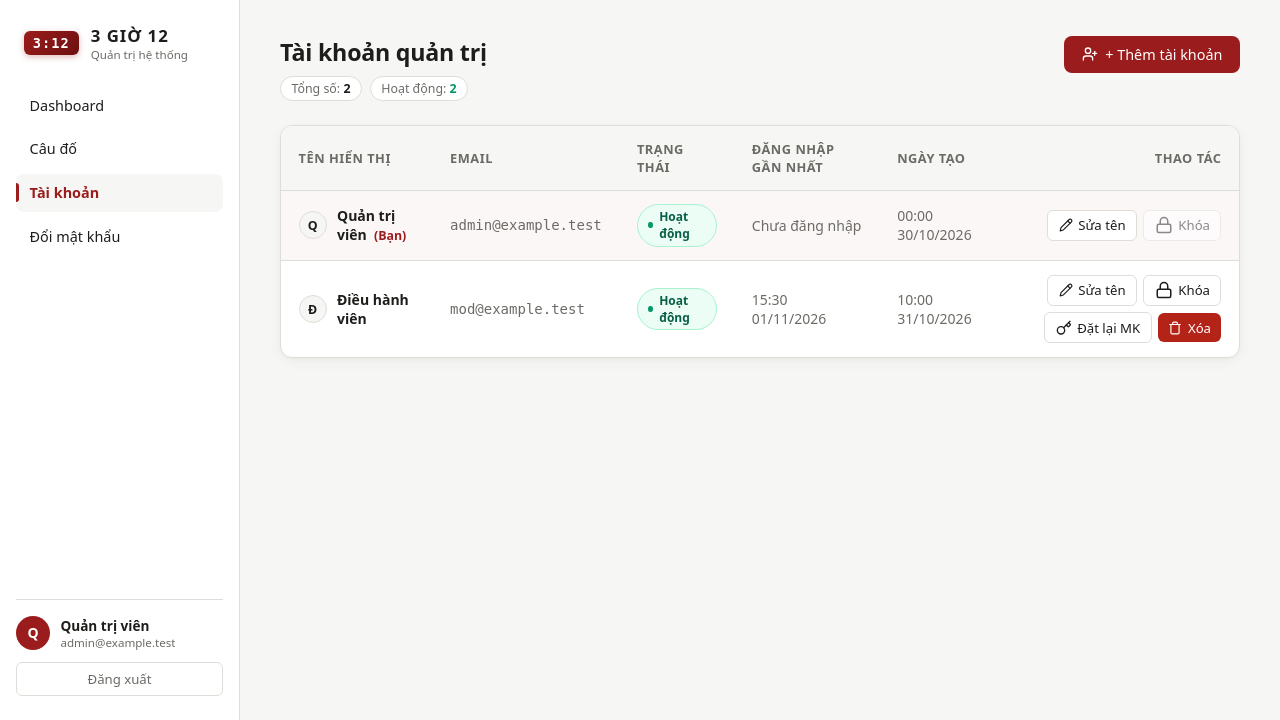
Test: AccountsPage: deletes an account after confirmation
Expected: the heading "Tài khoản quản trị" is shown, x1=280 y1=36 x2=487 y2=68
Click the button "Xóa" at {"x": 1190, "y": 328}, box x1=1158 y1=313 x2=1221 y2=342
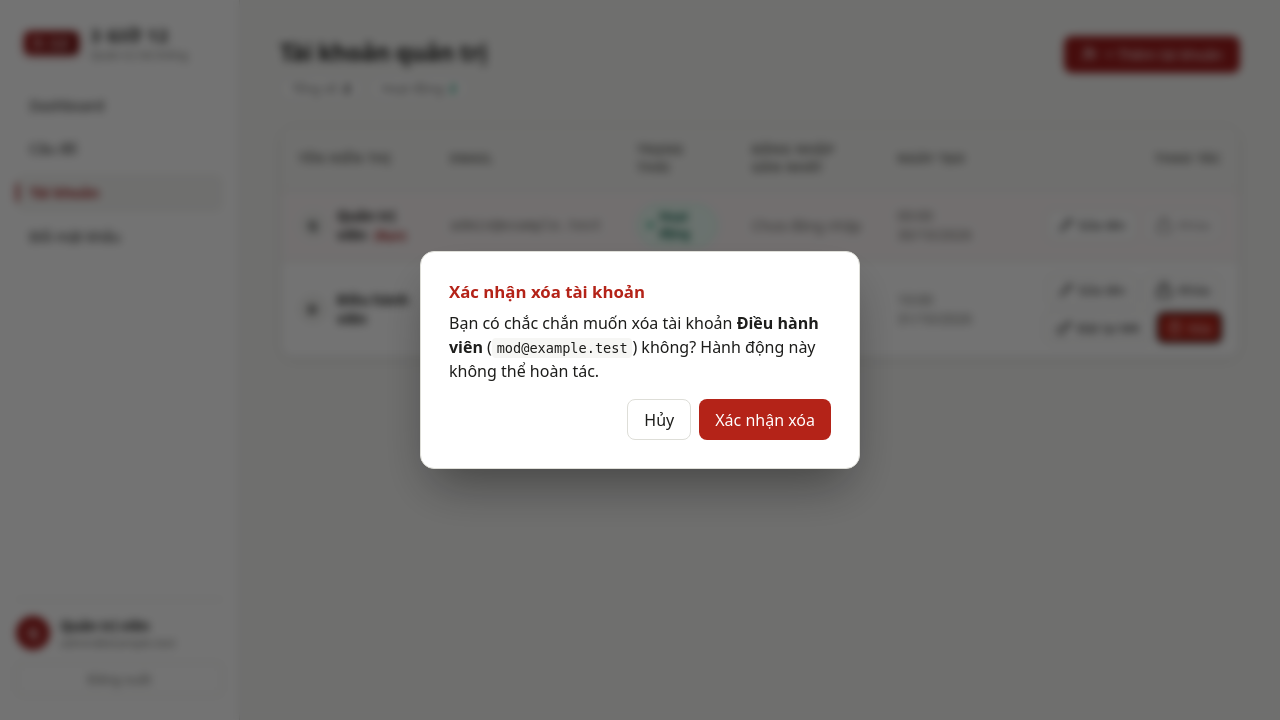
Result: the heading "Xác nhận xóa tài khoản" is shown at x1=449 y1=280 x2=645 y2=303
Click the button "Xác nhận xóa" at {"x": 765, "y": 420}, box x1=699 y1=399 x2=831 y2=440
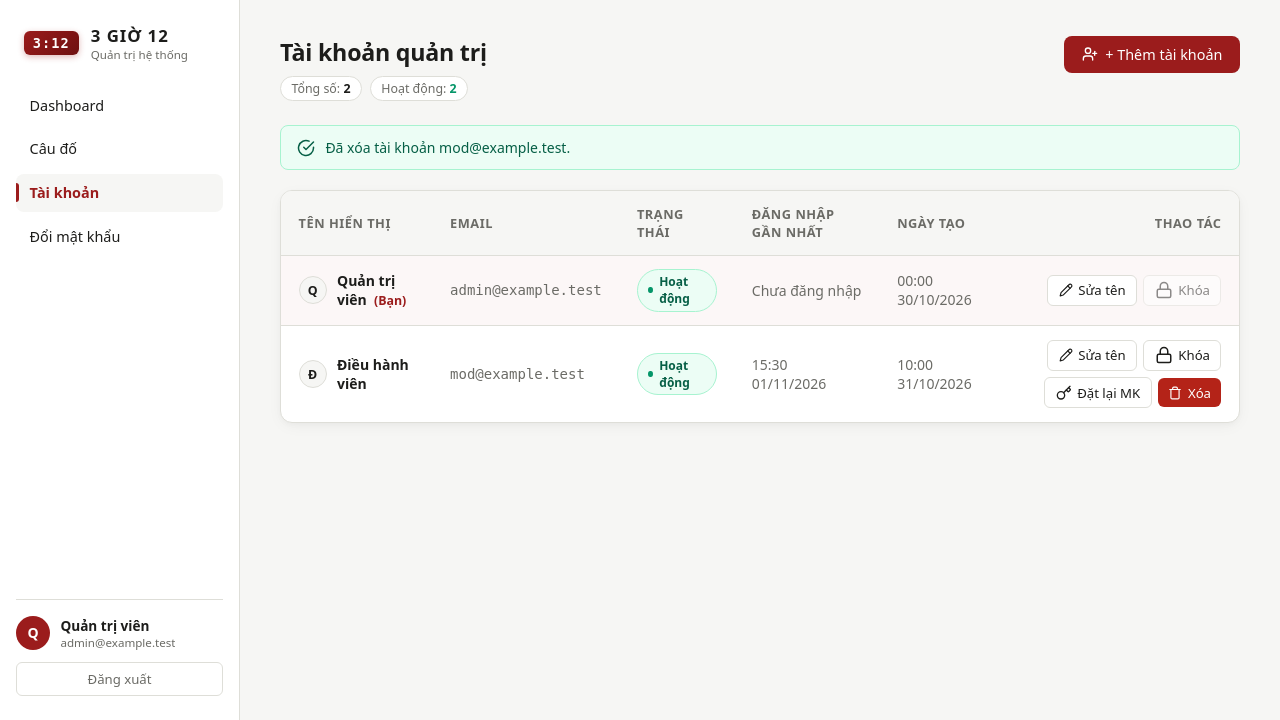
Result: the message reads "Đã xóa tài khoản mod@example.test." at x1=325 y1=138 x2=570 y2=157
